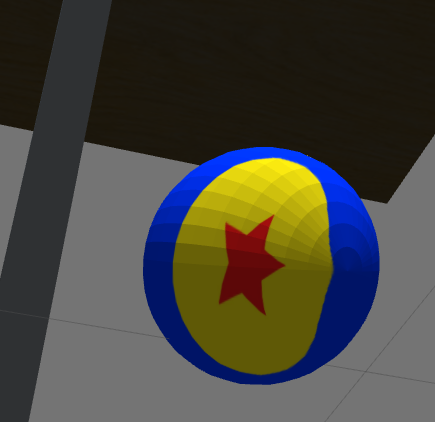toy story ball: (143, 146, 381, 384)
